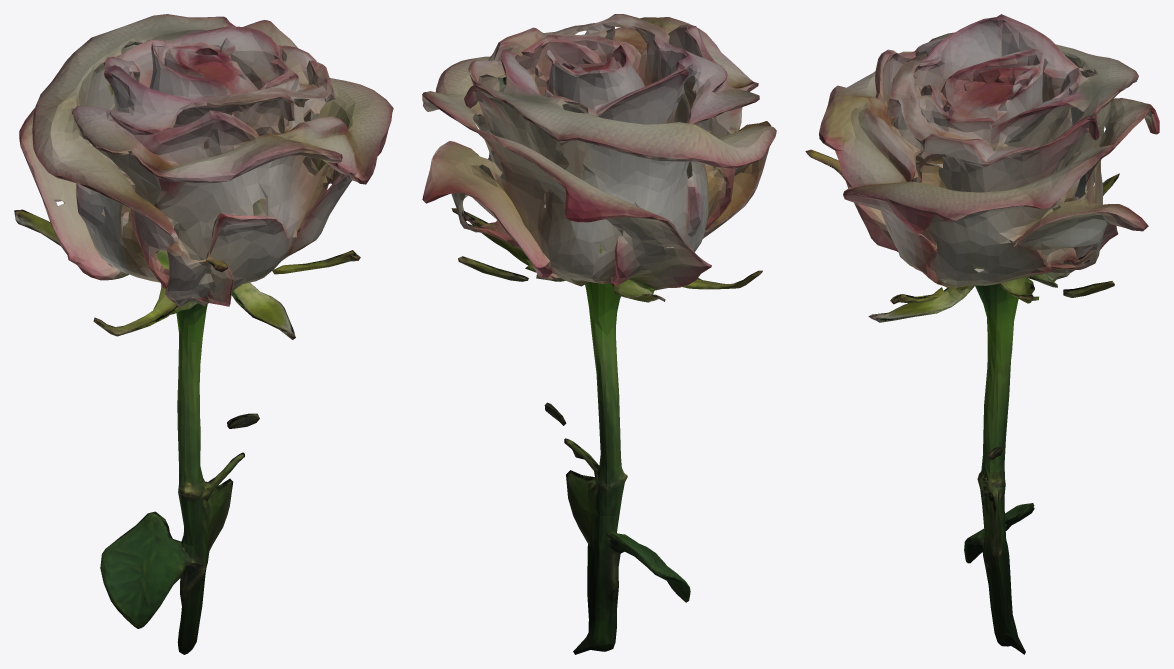
3 renders of one model, left to right at view 1: azimuth 30°, elevation 25°; view 2: azimuth 150°, elevation 25°; view 3: azimuth 270°, elevation 25°, orthographic.
Visible parts, largest first — view 1: world; view 2: world; view 3: world.
Boxes of the visible parts, box(x1,y1,x2,y2) form: world: box(14, 14, 393, 654); world: box(422, 14, 776, 654); world: box(805, 14, 1159, 654).
Bounding box in the file's own units: 0.5275 × 0.9382 × 0.5055.
1 material, 1 textured.
